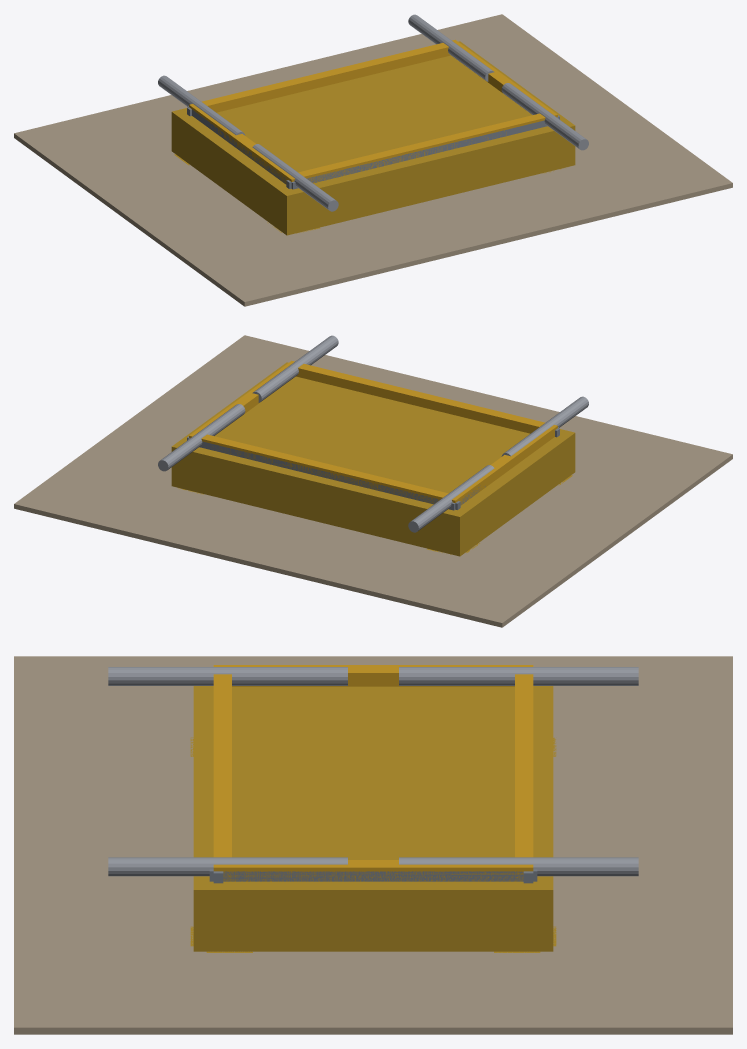
The model's file is stage_06_walls.glb.
3 views of the same model, one above another, from view 1: azimuth 30°, elevation 25°; view 2: azimuth 150°, elevation 25°; view 3: azimuth 270°, elevation 25° (orthographic). The views are drawn at different scales.
Parts seen in each view (by area): view 1: world; view 2: world; view 3: world.
Boxes of the visible parts, x1,y1,x2,y2 form: world: (14, 14, 732, 306); world: (14, 335, 732, 627); world: (14, 656, 732, 1034).
Bounding box in the file's own units: 11 × 1.89 × 9.
